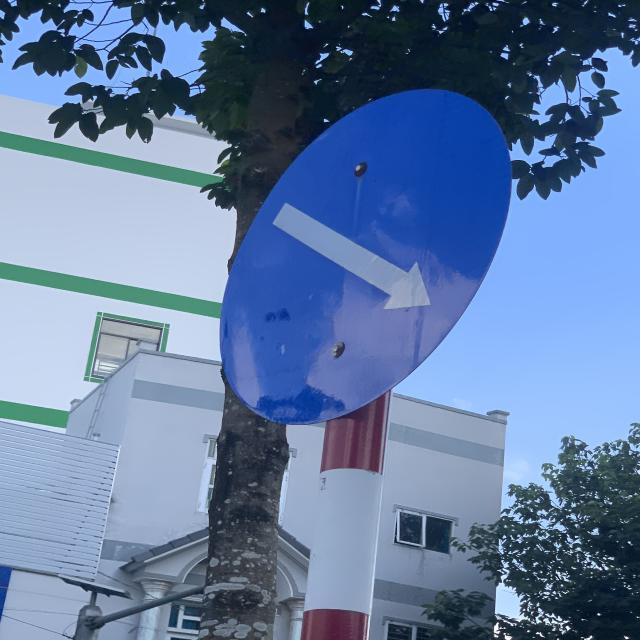Chi_Huong_Di_Phai: (221, 83, 519, 425)
